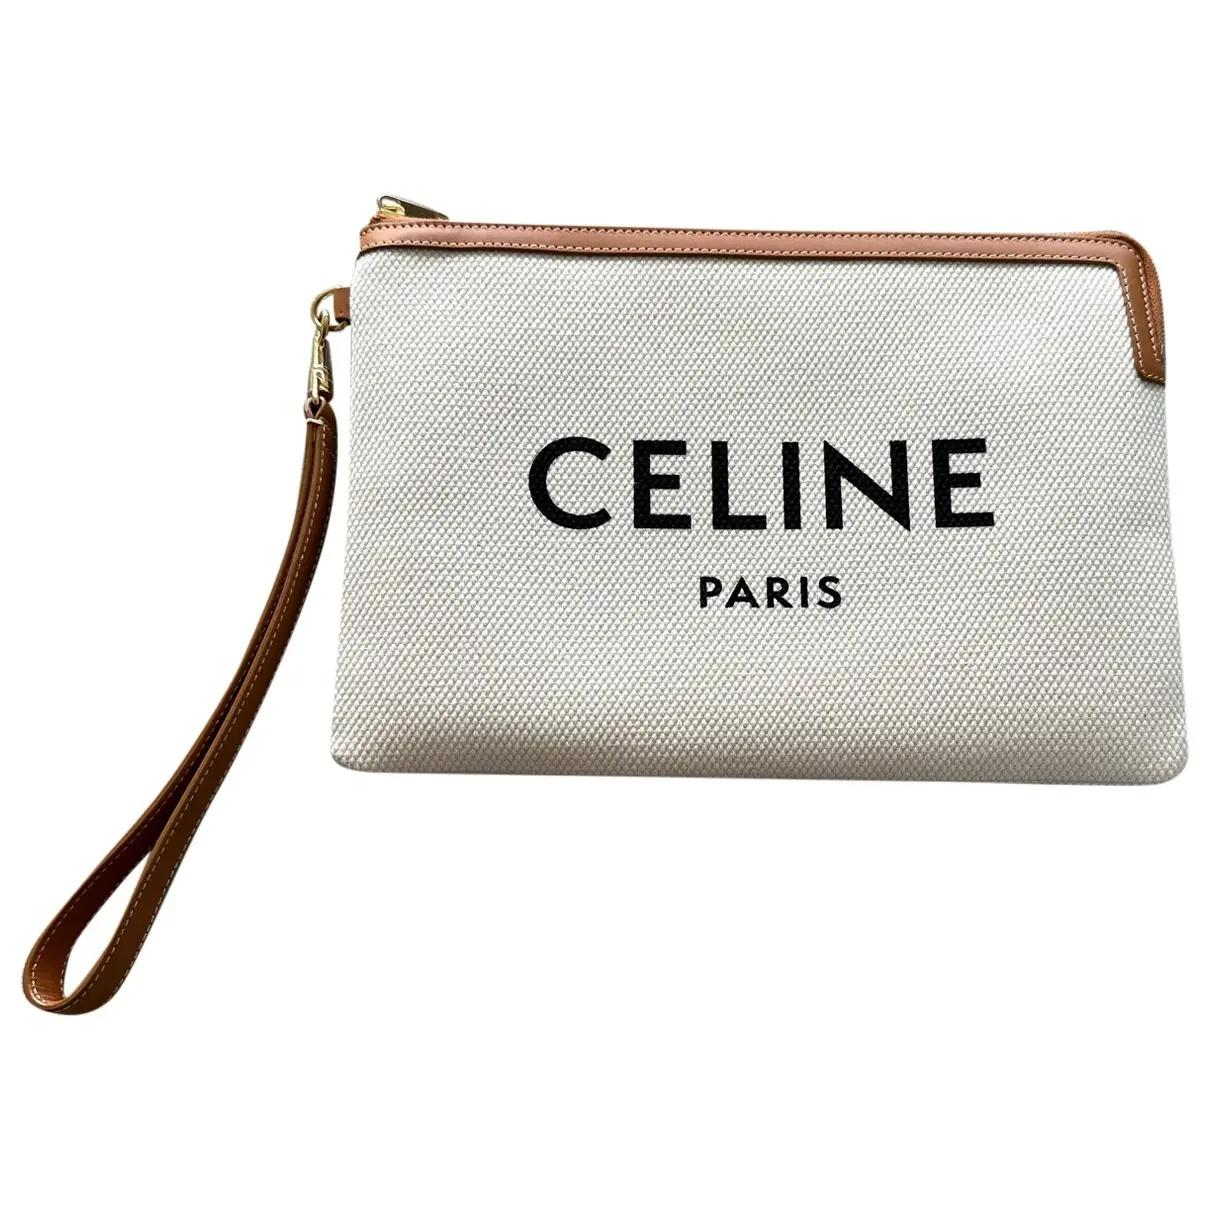CELINE: (527, 435, 994, 532)
